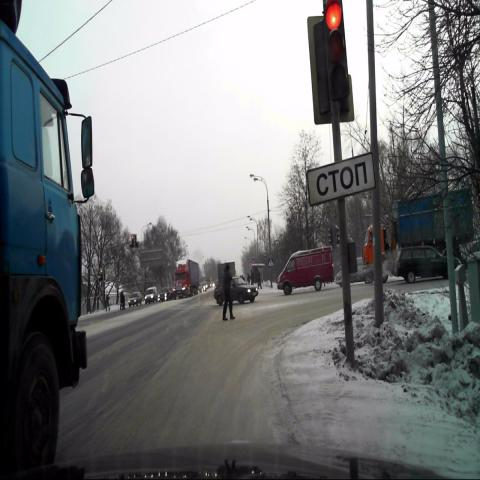6_16: (307, 155, 375, 206)
